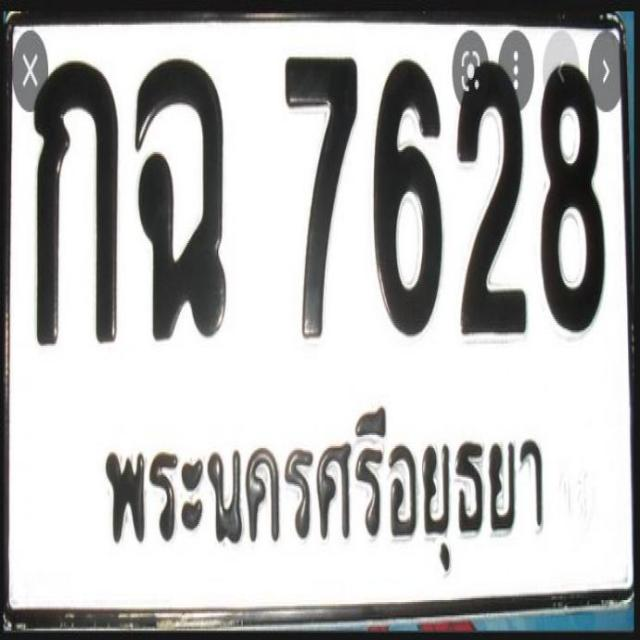2: (444, 35, 535, 336)
6: (363, 52, 456, 338)
7: (277, 50, 364, 340)
8: (524, 49, 607, 334)
A01: (20, 52, 120, 346)
A09: (126, 49, 228, 340)
AYA: (84, 381, 562, 596)
